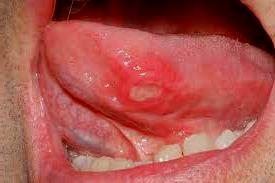Ulcer: (122, 75, 165, 111)
